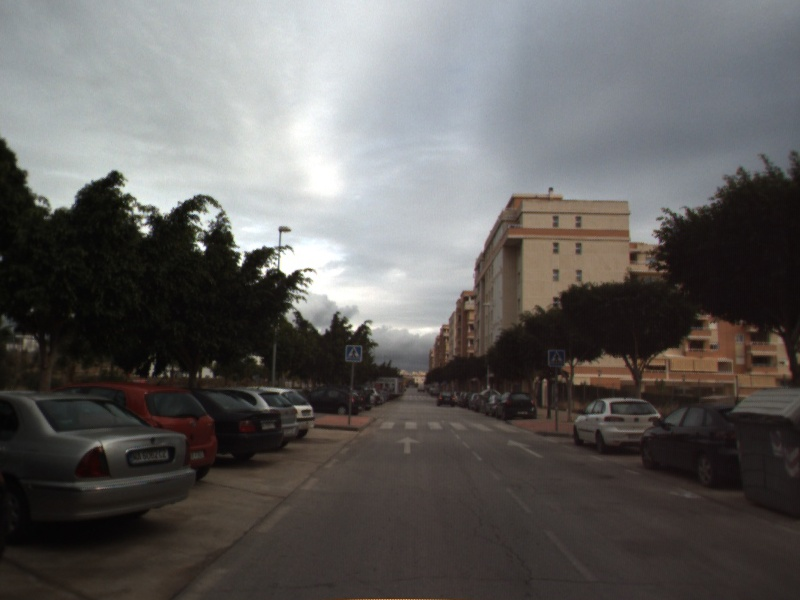STRAIGHT: (505, 438, 545, 459), (394, 435, 423, 455)
